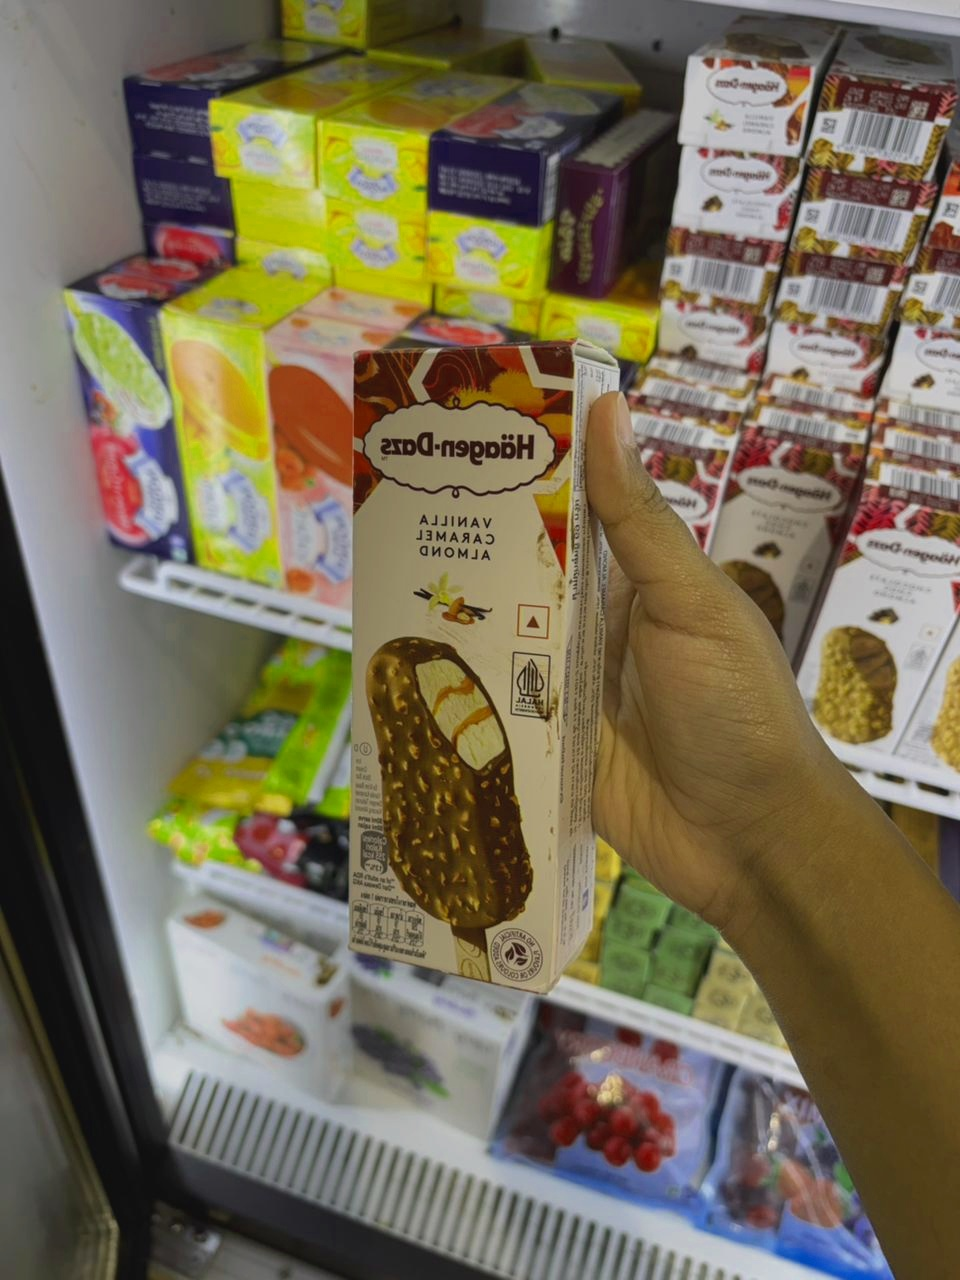Haagen-Dazs IceCream Bars: (318, 339, 634, 980), (789, 472, 959, 775), (693, 444, 867, 668), (785, 157, 929, 275), (626, 420, 741, 547), (797, 85, 956, 167), (674, 54, 815, 142), (760, 309, 903, 392), (653, 160, 804, 228), (654, 298, 775, 369), (653, 234, 784, 295)
